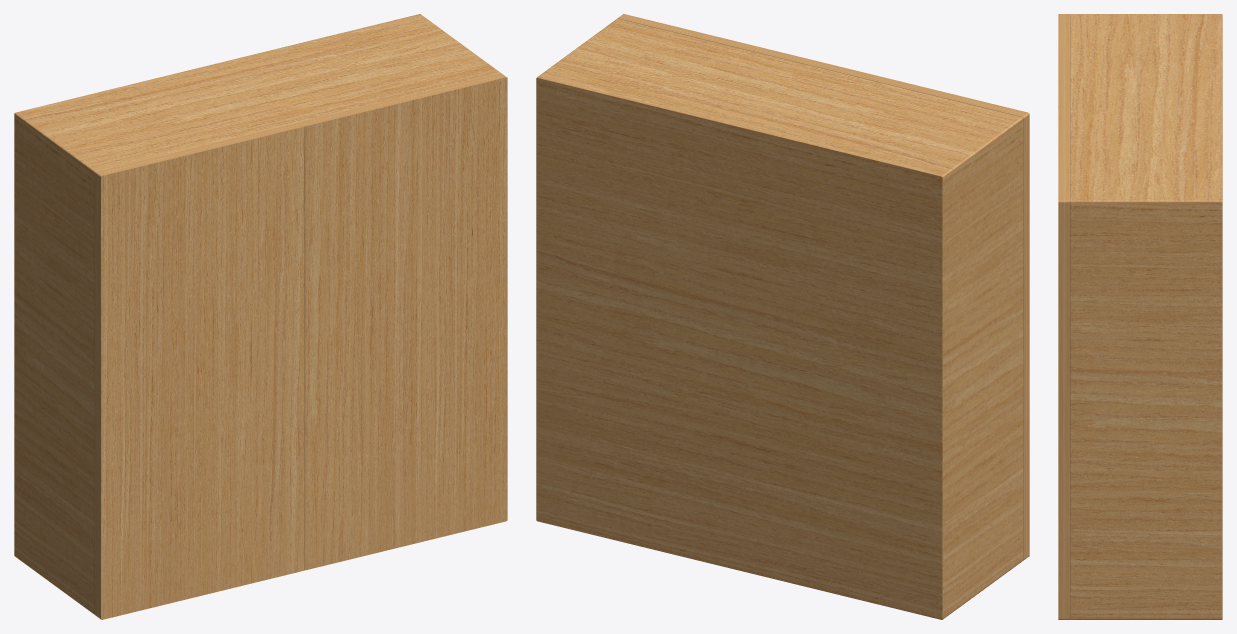
Rendered from kitchen_2.glb.
The picture shows the model from 3 angles, left to right: view 1: azimuth 30°, elevation 25°; view 2: azimuth 150°, elevation 25°; view 3: azimuth 270°, elevation 25°; orthographic projection. The views are drawn at different scales.
Visible parts, largest first — view 1: IKE160015; view 2: IKE160015; view 3: IKE160015.
Boxes of the visible parts, x1,y1,x2,y2 form: IKE160015: [14, 14, 507, 619]; IKE160015: [536, 14, 1029, 619]; IKE160015: [1058, 14, 1222, 619].
Size of the model in its own units: 40.23 by 41.95 by 14.88.
1 material, 1 textured.
